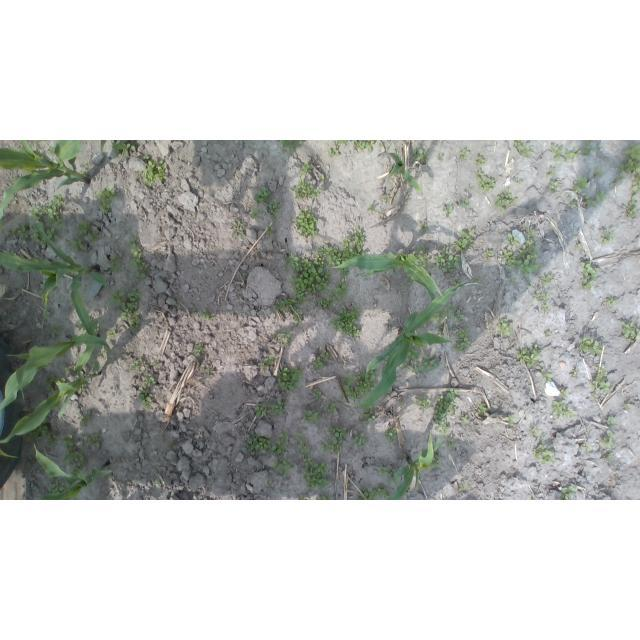Maize: (344, 281, 486, 410), (1, 213, 108, 335), (0, 346, 102, 458), (0, 140, 108, 231), (1, 332, 116, 408), (333, 253, 444, 303), (32, 441, 112, 500), (384, 429, 445, 500), (386, 152, 423, 193)
Weeds: (284, 254, 333, 303), (28, 192, 65, 248), (317, 244, 367, 277), (501, 239, 544, 276), (110, 288, 143, 332), (341, 367, 379, 401), (433, 388, 459, 435), (244, 429, 288, 456), (127, 231, 150, 279), (301, 456, 331, 492), (331, 305, 362, 338), (616, 143, 640, 182), (140, 156, 168, 187), (290, 208, 318, 239), (62, 434, 87, 468), (290, 178, 323, 201), (94, 186, 119, 215), (320, 426, 347, 452), (277, 365, 303, 391), (434, 248, 461, 273), (587, 365, 609, 394), (532, 440, 556, 465), (516, 343, 540, 368), (580, 262, 600, 291), (494, 188, 518, 212), (359, 484, 392, 501), (453, 229, 477, 252), (33, 425, 59, 446), (578, 336, 604, 356), (551, 400, 578, 419), (43, 373, 66, 395), (412, 356, 440, 374), (400, 346, 420, 371), (109, 140, 136, 158), (619, 320, 640, 343), (429, 306, 456, 323), (454, 328, 473, 352), (48, 476, 73, 494), (293, 430, 311, 455), (378, 464, 399, 485), (272, 457, 296, 475), (333, 278, 350, 302), (584, 191, 608, 208), (415, 244, 432, 268), (275, 296, 302, 311), (476, 170, 494, 192), (622, 195, 639, 218), (272, 328, 292, 347), (599, 430, 617, 450), (513, 140, 534, 157), (139, 387, 154, 410), (69, 236, 88, 254), (312, 349, 329, 369), (352, 228, 365, 253), (12, 223, 31, 240), (360, 405, 377, 424), (108, 255, 124, 275), (268, 199, 282, 221), (353, 140, 375, 154), (497, 318, 514, 336), (253, 187, 271, 204), (414, 395, 433, 411), (279, 141, 304, 152), (582, 140, 599, 156), (412, 148, 429, 164), (257, 354, 274, 370), (384, 425, 399, 443), (268, 400, 287, 414), (550, 142, 563, 162), (560, 484, 576, 500), (600, 228, 615, 245), (84, 434, 101, 449), (302, 409, 319, 424), (573, 176, 588, 192), (140, 372, 156, 387), (231, 222, 246, 238), (75, 219, 90, 234), (565, 147, 580, 162), (323, 401, 339, 415), (291, 311, 303, 329), (77, 411, 91, 426), (353, 433, 367, 448), (129, 359, 145, 372), (298, 162, 314, 175), (533, 290, 550, 302), (446, 434, 458, 450), (548, 181, 562, 194), (254, 403, 266, 418), (49, 325, 65, 336), (318, 297, 335, 307), (524, 226, 537, 239), (199, 308, 213, 320), (201, 368, 215, 380), (540, 369, 552, 382), (88, 230, 101, 242), (507, 235, 520, 247), (250, 208, 262, 221), (455, 310, 465, 325), (431, 456, 442, 469), (477, 402, 487, 416), (631, 176, 640, 191), (459, 148, 470, 160), (443, 205, 454, 217), (418, 222, 429, 234), (328, 147, 341, 157), (607, 416, 618, 427), (607, 297, 618, 308), (483, 249, 494, 260), (546, 166, 556, 178), (105, 329, 117, 339), (192, 344, 202, 356), (334, 141, 351, 148), (530, 427, 540, 438), (340, 236, 350, 247), (581, 443, 592, 453), (543, 275, 553, 286), (312, 388, 321, 400), (314, 494, 331, 500), (594, 168, 605, 177), (77, 321, 86, 332), (461, 199, 470, 210), (508, 414, 516, 426), (526, 493, 539, 500), (461, 415, 470, 425), (382, 194, 392, 203), (266, 225, 275, 235), (475, 156, 485, 165), (567, 197, 576, 206), (47, 146, 56, 155), (77, 384, 85, 394), (155, 477, 162, 488), (560, 389, 569, 397), (459, 483, 468, 491), (367, 203, 376, 211), (108, 459, 116, 468), (402, 196, 410, 205), (571, 367, 578, 377), (451, 279, 461, 286), (438, 325, 444, 336), (63, 366, 71, 374), (541, 305, 550, 312), (81, 161, 91, 167), (320, 175, 327, 183), (590, 395, 598, 402), (406, 278, 414, 285), (525, 278, 532, 286), (576, 242, 583, 250), (95, 323, 100, 334), (508, 277, 517, 283), (298, 494, 307, 500), (605, 455, 612, 462), (38, 340, 46, 346), (514, 179, 523, 184), (172, 301, 181, 306), (80, 171, 87, 177), (624, 404, 632, 409), (437, 155, 443, 161), (243, 273, 248, 280), (545, 331, 551, 336), (169, 442, 174, 447), (267, 482, 272, 487), (191, 310, 196, 315), (400, 404, 405, 409), (151, 362, 157, 366), (377, 210, 383, 214), (378, 143, 382, 147), (476, 276, 480, 280), (393, 171, 397, 175)
